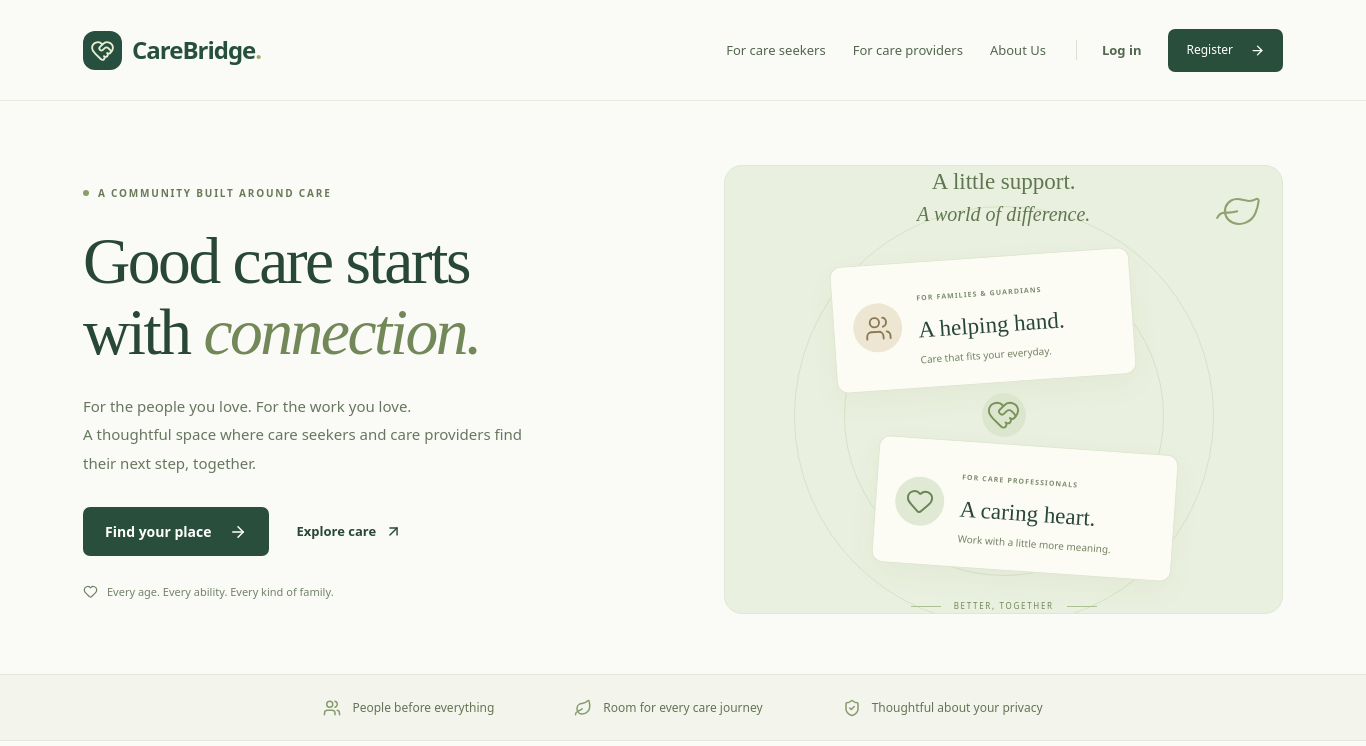
Test case: public home and shared auth entry points › offers one registration form for both roles through the home Register link
This screenshot has width=1366, height=746.
Click the link "Register".
click(1226, 50)  # box [1168,28,1283,72]
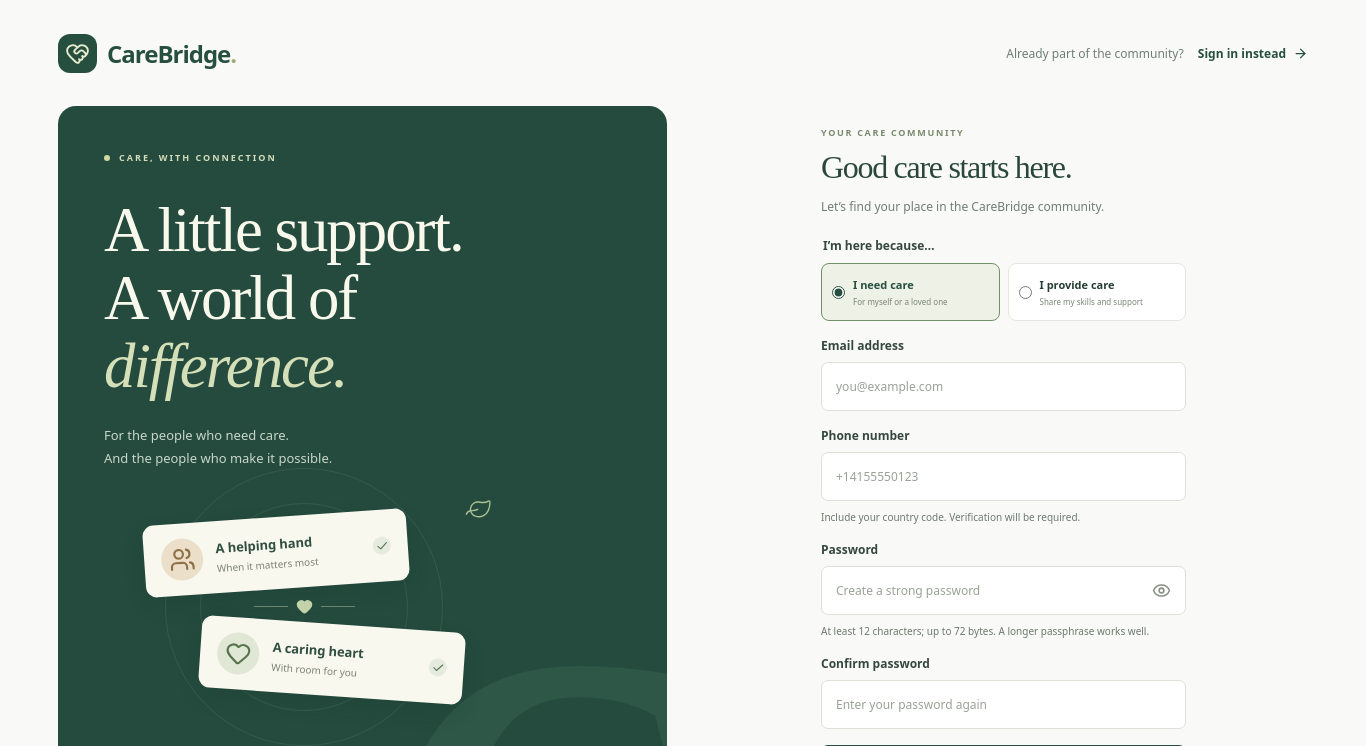
Expected: the radio button labelled "I need care For myself or a loved one" is shown, [832,286,845,299]
Expected: the radio button labelled "I provide care Share my skills and support" is shown, [1018,286,1032,299]
